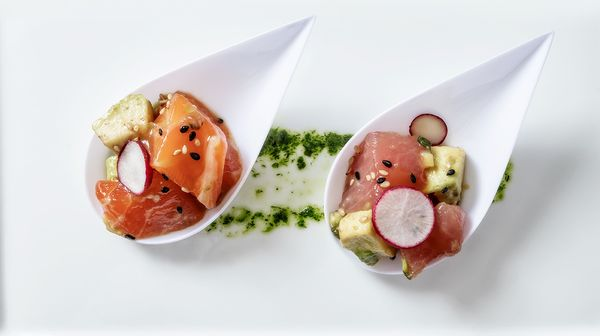sushi: (89, 15, 317, 245)
